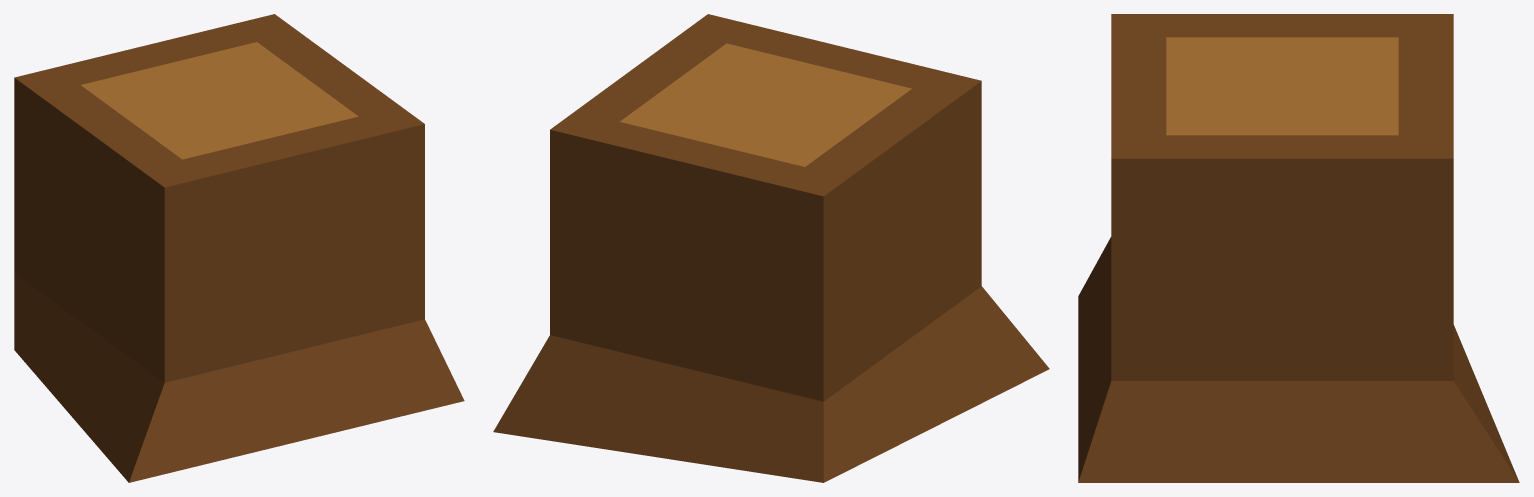
The model's file is Stump.fbx.
3 renders of one model, left to right at view 1: azimuth 30°, elevation 25°; view 2: azimuth 150°, elevation 25°; view 3: azimuth 270°, elevation 25°, orthographic. The views are drawn at different scales.
Visible parts, largest first — view 1: Cube.003; view 2: Cube.003; view 3: Cube.003.
Boxes of the visible parts, x1,y1,x2,y2 form: Cube.003: (14,14,464,482); Cube.003: (493,14,1049,482); Cube.003: (1078,14,1519,482).
Size of the model in its own units: 392 by 304 by 392.
